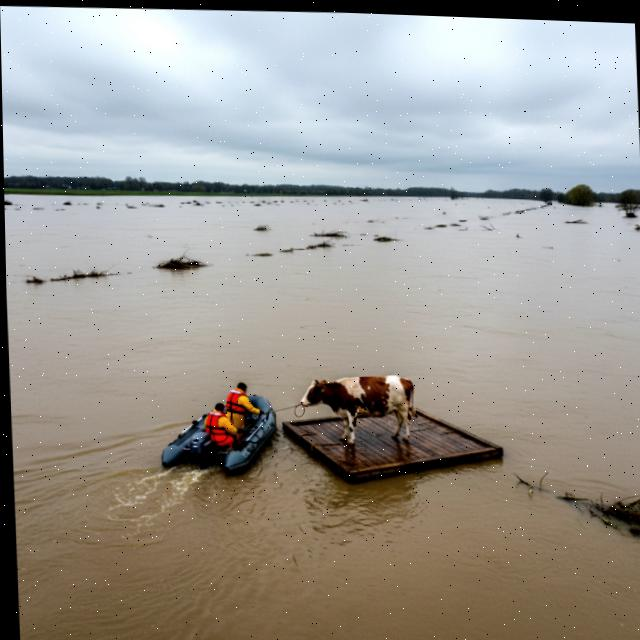cow: (295, 364, 427, 451)
rescuer: (195, 398, 248, 455), (221, 372, 267, 437)
